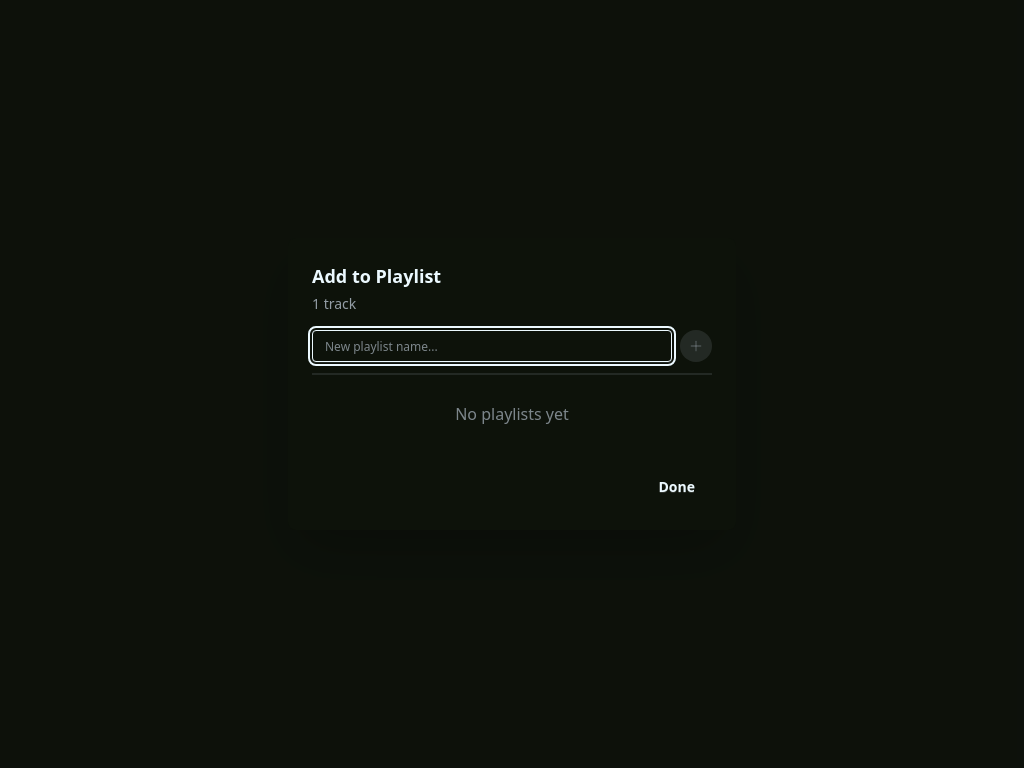
Test: AddToPlaylistModal.svelte › new playlist creation flow: creates, adds tracks, shows in list
Check: the text "No playlists yet" is shown, box [455,403,569,425]
Type "Fresh" into the field with placeholder "New playlist name..." at (492, 346), box [312,330,672,362]
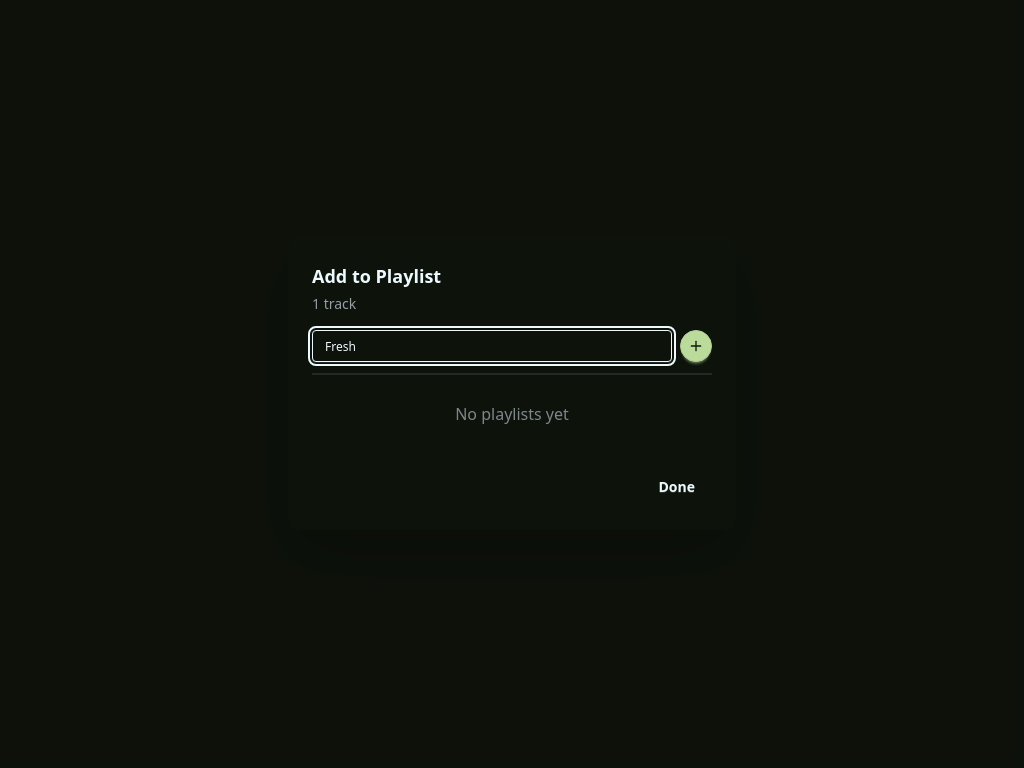
Click the button named "Create playlist" at (696, 346), box [680,330,712,362]
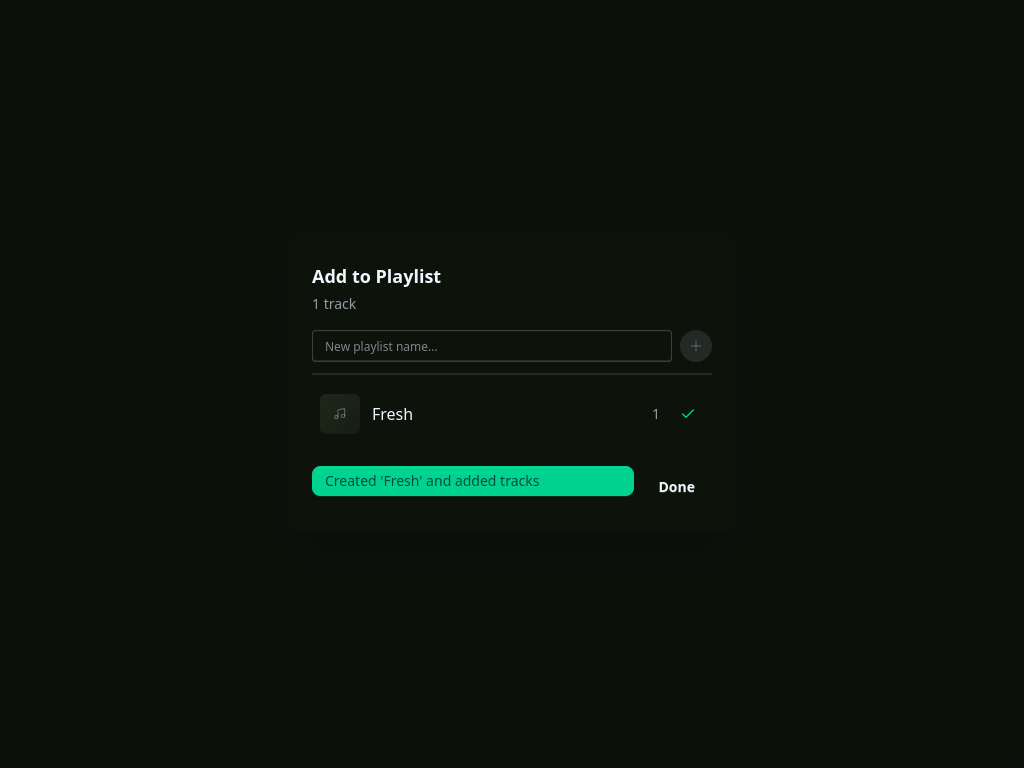
Check: the text "Fresh" is shown, box [372,403,413,425]
